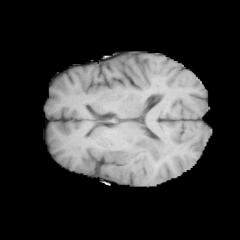glioma: (106, 136, 172, 184)
